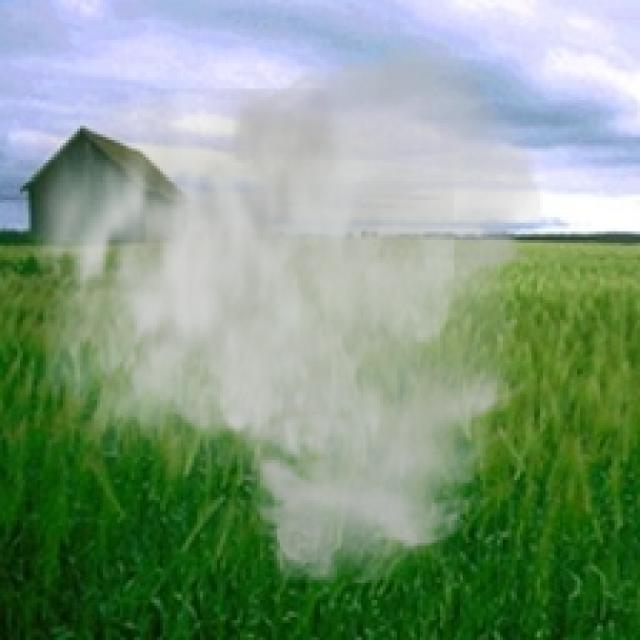smoke: (3, 34, 546, 592)
